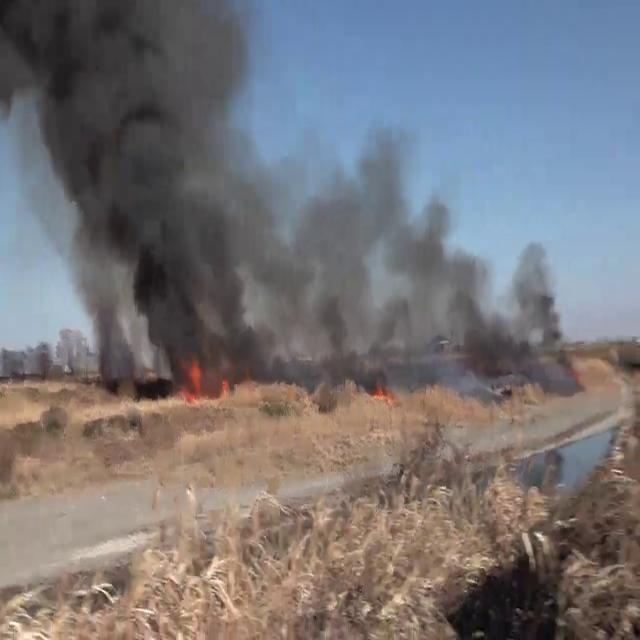Smoke: (0, 0, 270, 370), (267, 115, 580, 377)
